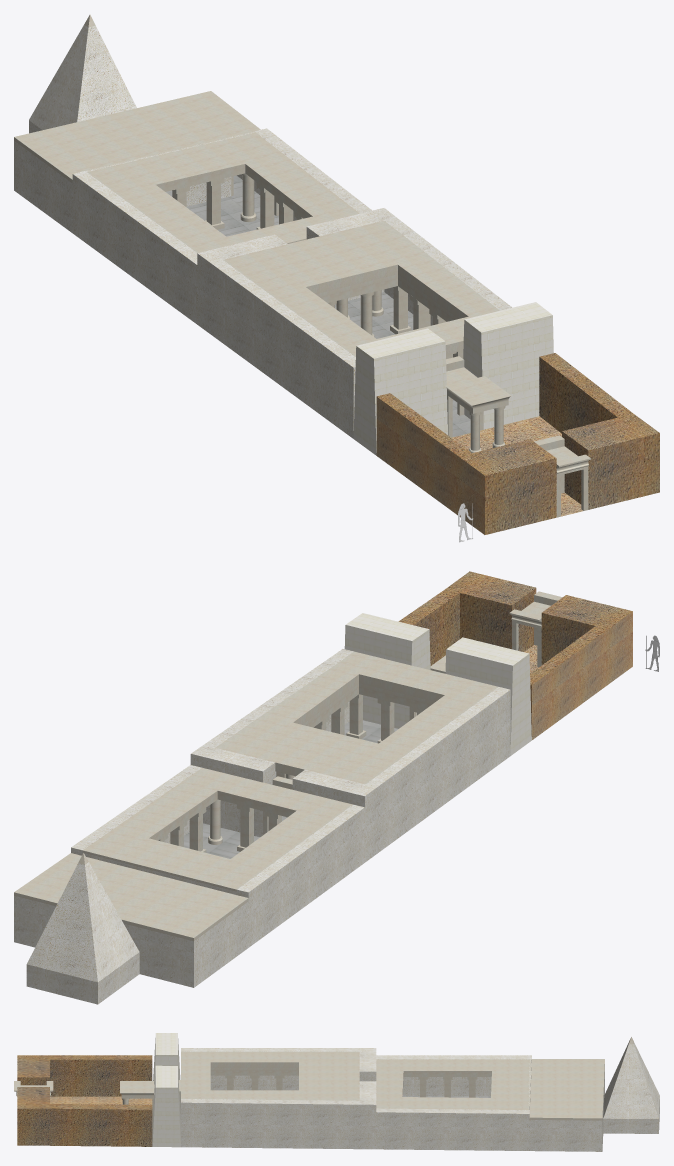
Rendered from Nebnefer_Mahu_ST218.obj.
3 views of the same model, one above another, from view 1: azimuth 30°, elevation 25°; view 2: azimuth 150°, elevation 25°; view 3: azimuth 270°, elevation 25° (orthographic). The views are drawn at different scales.
Visible parts, largest first — view 1: Mesh49 Model, Mesh45 G_2nd_Court_Roof1 Model, Mesh46 G_3rd_roof1 Model, Mesh44 West_Roof1 Model, Mesh41 Pylon1 Model, Mesh40 Pylon1 Model, Mesh31 Doorway1 Model, Mesh48 ROOFlittle1 Model, Mesh30 Doorway_2_1 Model; view 2: Mesh49 Model, Mesh45 G_2nd_Court_Roof1 Model, Mesh46 G_3rd_roof1 Model, Mesh44 West_Roof1 Model, Mesh41 Pylon1 Model, Mesh40 Pylon1 Model, Mesh31 Doorway1 Model; view 3: Mesh49 Model, Mesh45 G_2nd_Court_Roof1 Model, Mesh46 G_3rd_roof1 Model, Mesh44 West_Roof1 Model, Mesh40 Pylon1 Model, Mesh41 Pylon1 Model, Mesh48 ROOFlittle1 Model, Mesh30 Doorway_2_1 Model.
Boxes of the visible parts, x1,y1,x2,y2 form: Mesh49 Model: [14, 14, 659, 534]; Mesh45 G_2nd_Court_Roof1 Model: [223, 220, 499, 356]; Mesh46 G_3rd_roof1 Model: [85, 131, 359, 252]; Mesh44 West_Roof1 Model: [14, 91, 260, 182]; Mesh41 Pylon1 Model: [353, 328, 447, 455]; Mesh40 Pylon1 Model: [463, 302, 553, 429]; Mesh31 Doorway1 Model: [534, 435, 590, 517]; Mesh48 ROOFlittle1 Model: [445, 376, 511, 408]; Mesh30 Doorway_2_1 Model: [446, 367, 508, 437]; Mesh49 Model: [14, 571, 632, 1004]; Mesh45 G_2nd_Court_Roof1 Model: [215, 651, 498, 784]; Mesh46 G_3rd_roof1 Model: [82, 768, 352, 891]; Mesh44 West_Roof1 Model: [14, 853, 248, 941]; Mesh41 Pylon1 Model: [445, 637, 531, 755]; Mesh40 Pylon1 Model: [344, 613, 430, 728]; Mesh31 Doorway1 Model: [509, 591, 562, 667]; Mesh49 Model: [17, 1037, 659, 1151]; Mesh45 G_2nd_Court_Roof1 Model: [181, 1051, 359, 1100]; Mesh46 G_3rd_roof1 Model: [376, 1059, 531, 1109]; Mesh44 West_Roof1 Model: [529, 1059, 604, 1120]; Mesh40 Pylon1 Model: [152, 1065, 180, 1147]; Mesh41 Pylon1 Model: [153, 1033, 180, 1084]; Mesh48 ROOFlittle1 Model: [120, 1081, 153, 1095]; Mesh30 Doorway_2_1 Model: [121, 1084, 180, 1124].
Bounding box in the file's own units: 9.81 × 5.76 × 39.42.
